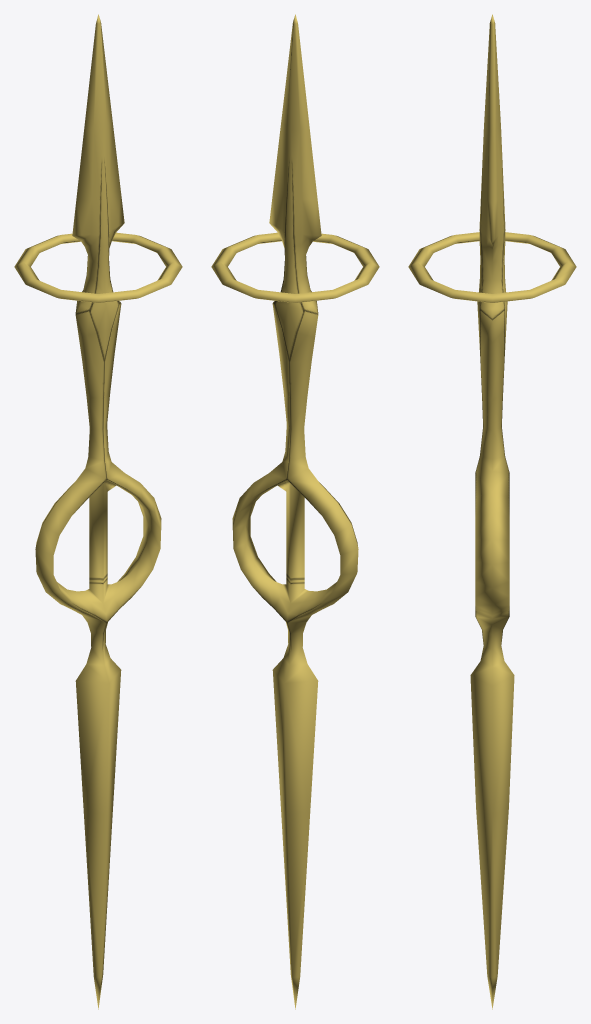
The model's file is chiyou_weapon_2.FBX.
The picture shows the model from 3 angles, left to right: view 1: azimuth 30°, elevation 25°; view 2: azimuth 150°, elevation 25°; view 3: azimuth 270°, elevation 25°; orthographic projection.
Parts seen in each view (by area): view 1: chiyou_weapon_2; view 2: chiyou_weapon_2; view 3: chiyou_weapon_2.
Boxes of the visible parts, left/top/right/bottom form: chiyou_weapon_2: left=14, top=14, right=182, bottom=1009; chiyou_weapon_2: left=211, top=14, right=379, bottom=1009; chiyou_weapon_2: left=408, top=14, right=576, bottom=1009.
Bounding box in the file's own units: 202 × 1315 × 202.
